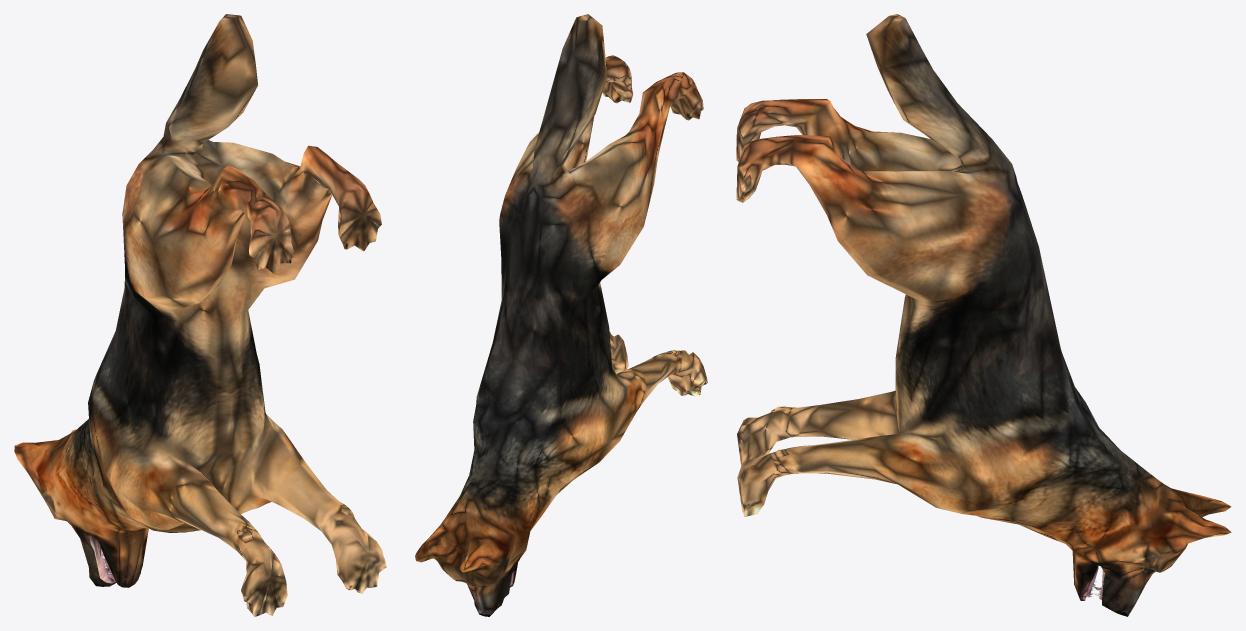
File: german_shepherd.obj
3 views of the same model, side by side, from view 1: azimuth 30°, elevation 25°; view 2: azimuth 150°, elevation 25°; view 3: azimuth 270°, elevation 25° (orthographic). The views are drawn at different scales.
Parts seen in each view (by area): view 1: german_shepherd_uploads_files_3581158_GermanShepherdLP; view 2: german_shepherd_uploads_files_3581158_GermanShepherdLP; view 3: german_shepherd_uploads_files_3581158_GermanShepherdLP.
Part boxes in pixels (<box>): german_shepherd_uploads_files_3581158_GermanShepherdLP: <box>14,14,386,616</box>; german_shepherd_uploads_files_3581158_GermanShepherdLP: <box>415,14,707,616</box>; german_shepherd_uploads_files_3581158_GermanShepherdLP: <box>736,14,1231,616</box>.
Bounding box in the file's own units: 0.2629 × 1.12 × 0.8404.
Materials: 1 (1 with a texture image).
